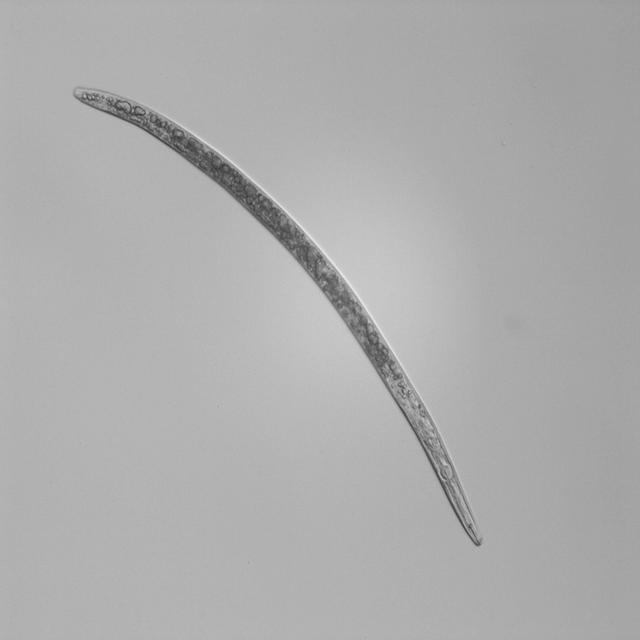Pratylenchus: (71, 88, 484, 556)
